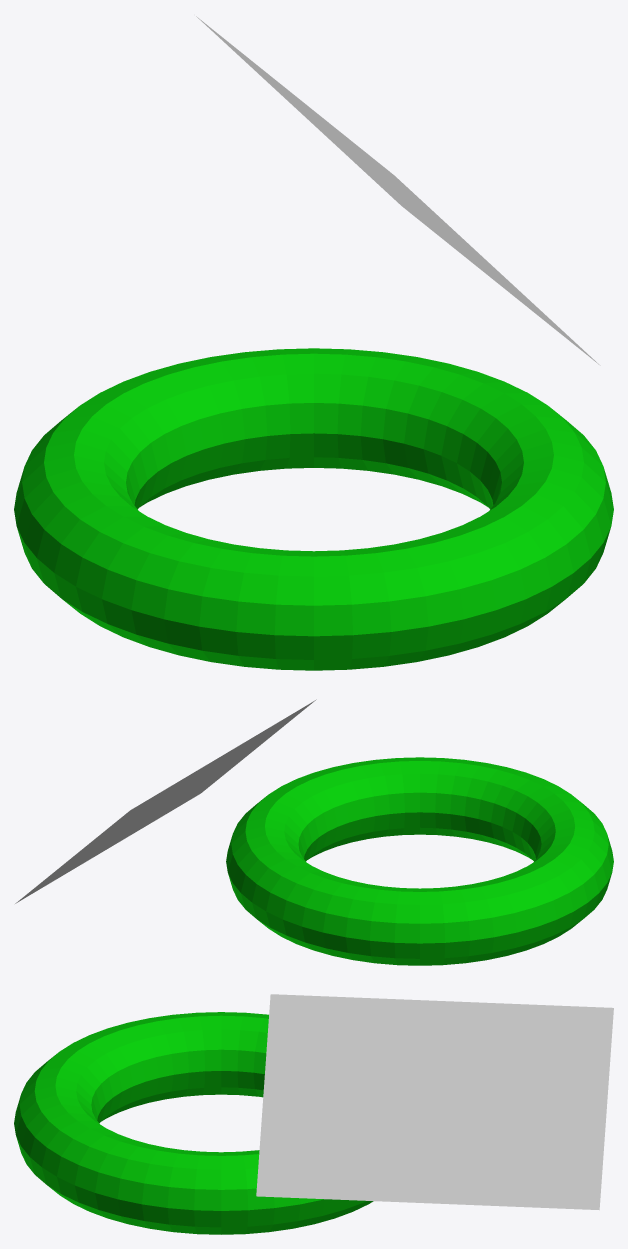
Rendered from vizitar.obj.
3 views of the same model, one above another, from view 1: azimuth 30°, elevation 25°; view 2: azimuth 150°, elevation 25°; view 3: azimuth 270°, elevation 25° (orthographic). The views are drawn at different scales.
Visible parts, largest first — view 1: Torus, Plane_Plane.006; view 2: Torus, Plane_Plane.006; view 3: Plane_Plane.006, Torus.
Boxes of the visible parts, box(x1,y1,x2,y2) form: Torus: box(14, 348, 613, 670); Plane_Plane.006: box(196, 16, 600, 365); Torus: box(226, 757, 613, 965); Plane_Plane.006: box(15, 699, 316, 903); Plane_Plane.006: box(256, 994, 613, 1210); Torus: box(14, 1012, 373, 1234).
Bounding box in the file's own units: 2.95 × 1.39 × 3.62.
